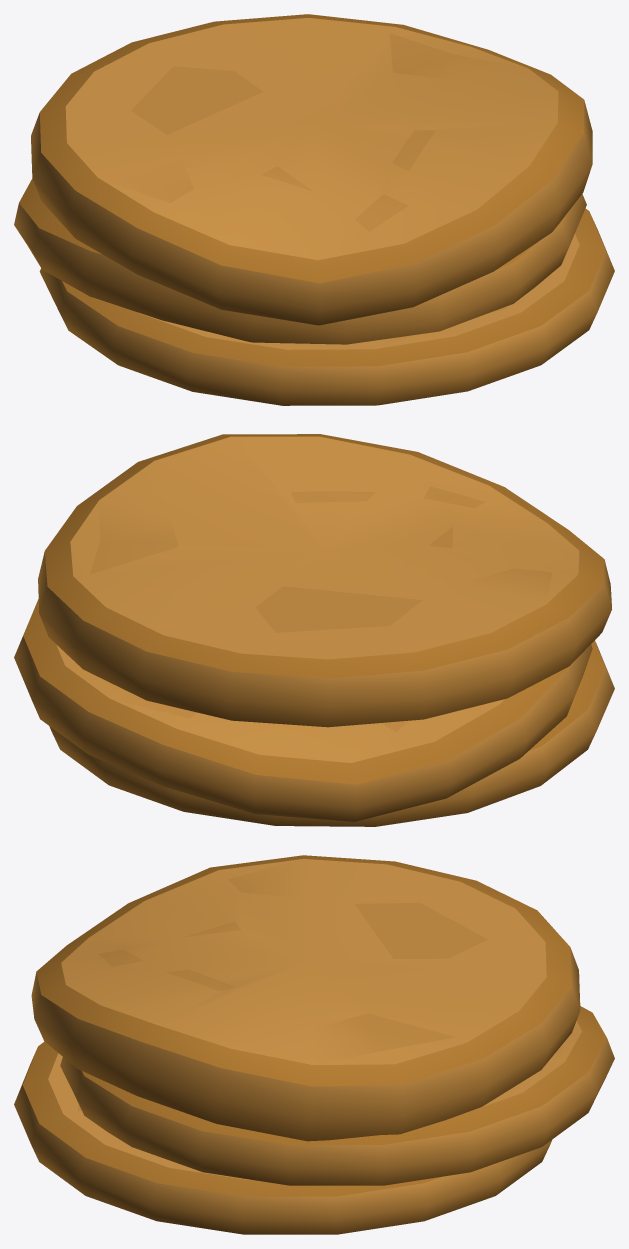
File: Pancake_LV_3.glb
3 views of the same model, one above another, from view 1: azimuth 30°, elevation 25°; view 2: azimuth 150°, elevation 25°; view 3: azimuth 270°, elevation 25° (orthographic). The views are drawn at different scales.
Visible parts, largest first — view 1: Pancake_LV_3; view 2: Pancake_LV_3; view 3: Pancake_LV_3.
Part boxes in pixels (x1,y1,x2,y2): Pancake_LV_3: [14, 14, 614, 405]; Pancake_LV_3: [14, 434, 614, 826]; Pancake_LV_3: [14, 855, 614, 1234].
Size of the model in its own units: 0.2947 by 0.1039 by 0.317.
Materials: 1 (1 with a texture image).
